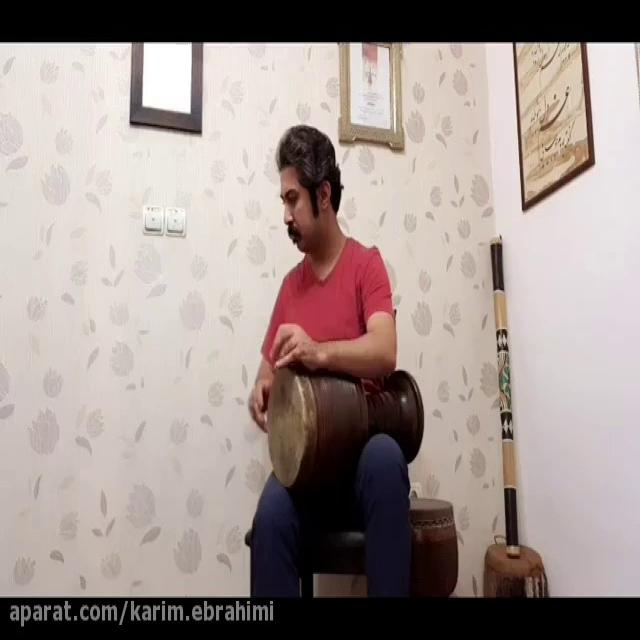Tombak: (266, 362, 424, 482)
